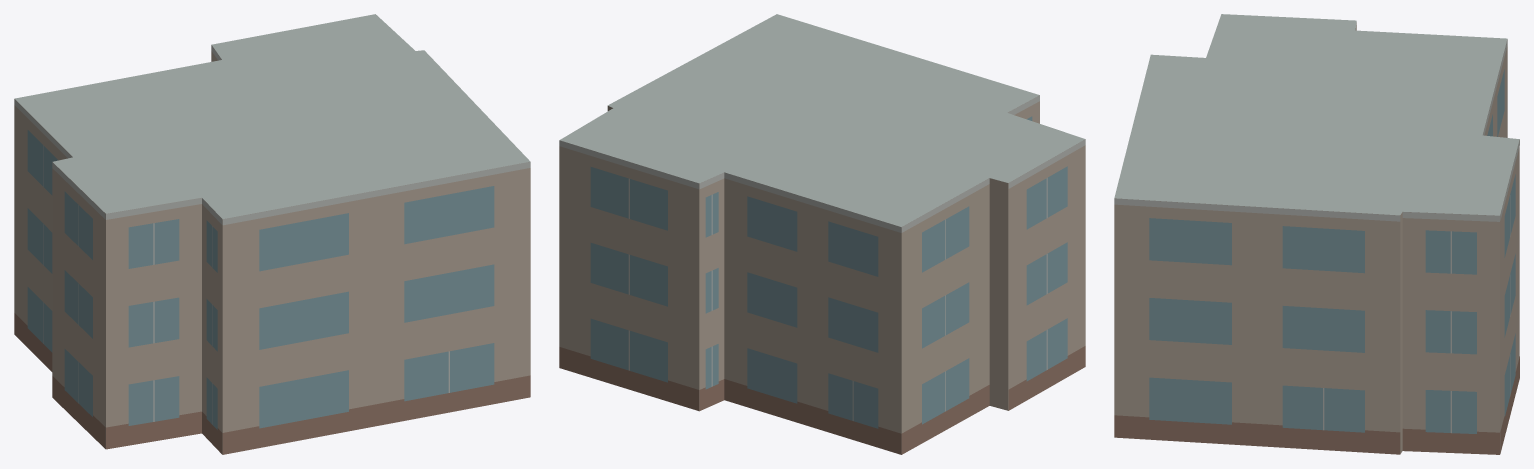
Rendered from survey-upis-32541348.glb.
3 renders of one model, left to right at view 1: azimuth 30°, elevation 25°; view 2: azimuth 150°, elevation 25°; view 3: azimuth 270°, elevation 25°, orthographic. The views are drawn at different scales.
Visible parts, largest first — view 1: survey-upis-32541348.tmp; view 2: survey-upis-32541348.tmp; view 3: survey-upis-32541348.tmp.
Boxes of the visible parts, x1,y1,x2,y2 form: survey-upis-32541348.tmp: (14, 14, 530, 454); survey-upis-32541348.tmp: (559, 14, 1085, 454); survey-upis-32541348.tmp: (1114, 14, 1519, 454).
Size of the model in its own units: 16.82 by 9.3 by 14.3.
